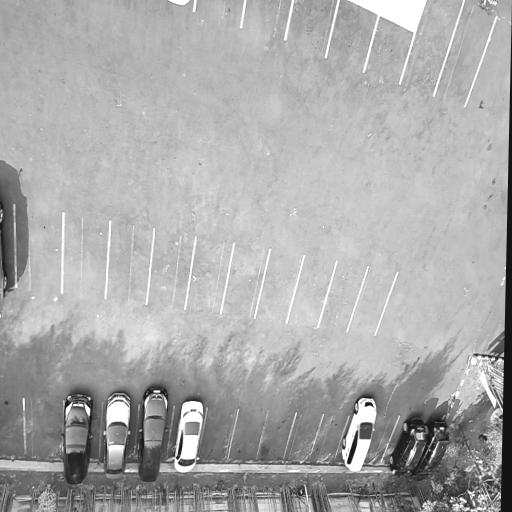Car: (135, 384, 171, 484), (62, 389, 96, 489), (338, 396, 379, 476), (170, 394, 208, 478), (100, 390, 135, 481), (385, 412, 427, 481), (409, 419, 451, 485), (0, 197, 8, 320)
Space Available: (436, 0, 496, 106), (402, 0, 467, 94), (16, 205, 62, 293), (107, 222, 154, 304), (63, 214, 109, 297), (148, 229, 195, 309), (186, 238, 234, 314), (221, 244, 269, 319), (328, 1, 378, 72), (287, 256, 336, 328), (256, 250, 304, 322), (319, 262, 368, 332), (347, 267, 397, 335), (364, 16, 413, 83), (287, 0, 337, 57), (24, 399, 62, 457), (228, 410, 268, 461), (242, 0, 293, 40), (199, 409, 238, 459), (284, 413, 323, 461), (258, 412, 296, 460), (310, 415, 348, 460), (365, 417, 399, 465), (0, 398, 25, 455), (194, 0, 244, 27)
